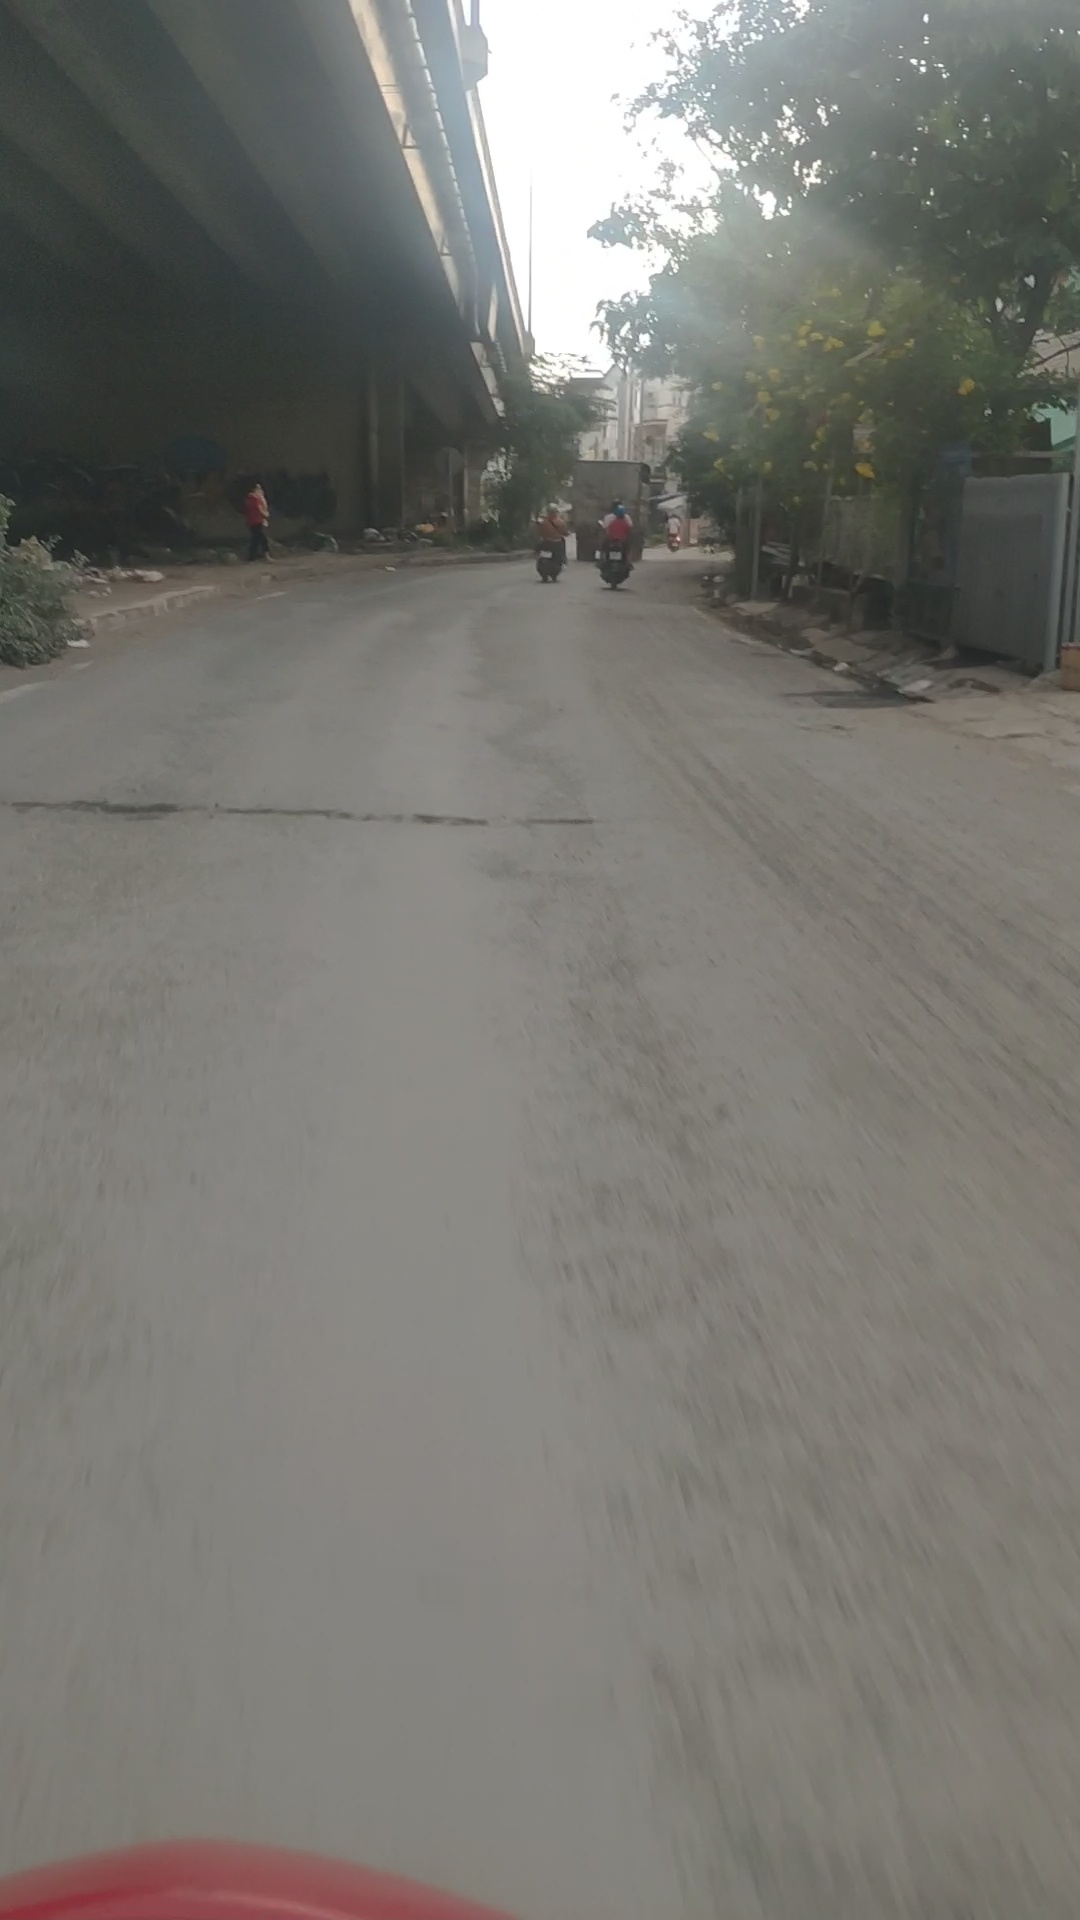hole: (785, 688, 934, 713)
